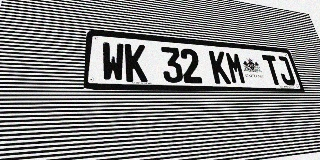2: (179, 48, 202, 83)
3: (161, 46, 184, 83)
J: (275, 56, 296, 85)
K: (125, 44, 148, 82), (208, 50, 231, 84)
M: (224, 52, 247, 84)
T: (261, 55, 283, 85)
W: (101, 42, 125, 82)
